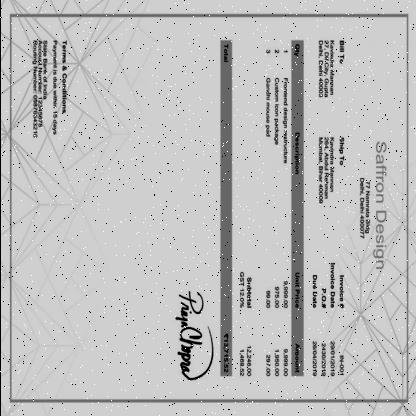Paragraph: (357, 139, 388, 271), (220, 41, 232, 376), (310, 262, 344, 378), (31, 38, 67, 138), (235, 269, 254, 379), (316, 135, 345, 205), (316, 37, 346, 101)
Table: (258, 40, 303, 378)
